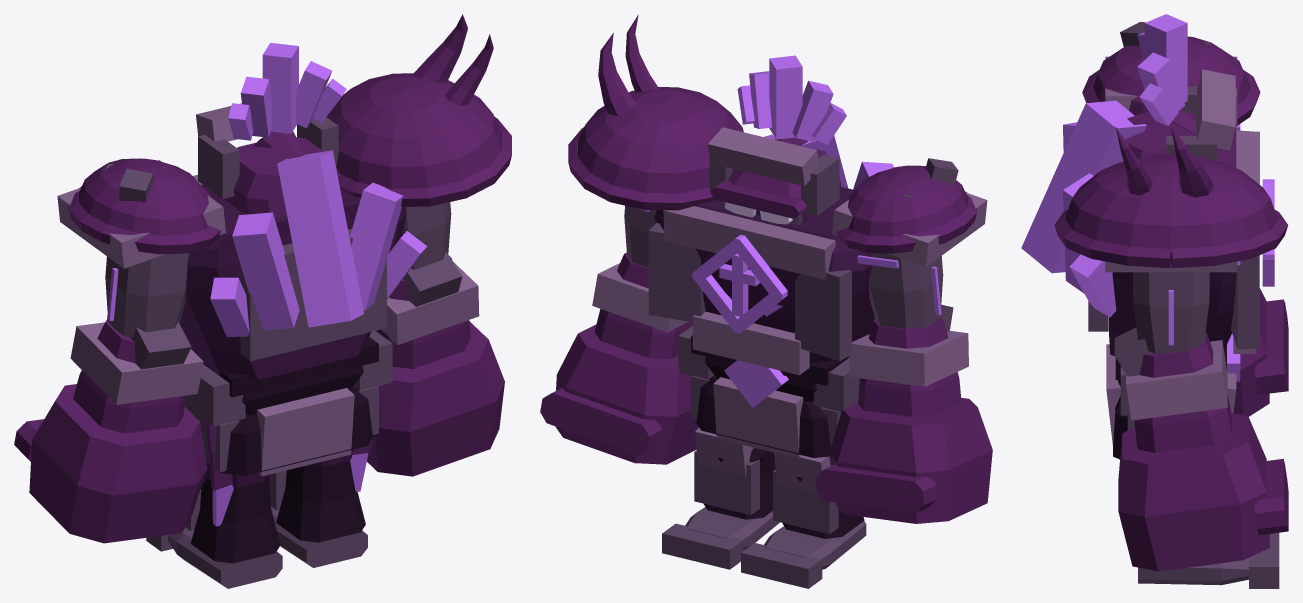
File: section_guardian_fake_source.glb
The picture shows the model from 3 angles, left to right: view 1: azimuth 30°, elevation 25°; view 2: azimuth 150°, elevation 25°; view 3: azimuth 270°, elevation 25°; orthographic projection. The views are drawn at different scales.
Visible parts, largest first — view 1: BannerL1; view 2: BannerL1; view 3: BannerL1.
Part boxes in pixels (bbox=[...]): BannerL1: bbox=[14, 14, 511, 588]; BannerL1: bbox=[540, 14, 992, 588]; BannerL1: bbox=[1021, 14, 1288, 588].
Bounding box in the file's own units: 5.07 × 5.73 × 2.64.
